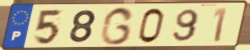0: (137, 7, 166, 44)
1: (212, 6, 230, 43)
5: (31, 8, 65, 46)
8: (69, 9, 97, 44)
9: (173, 7, 201, 43)
G: (99, 6, 137, 46)
